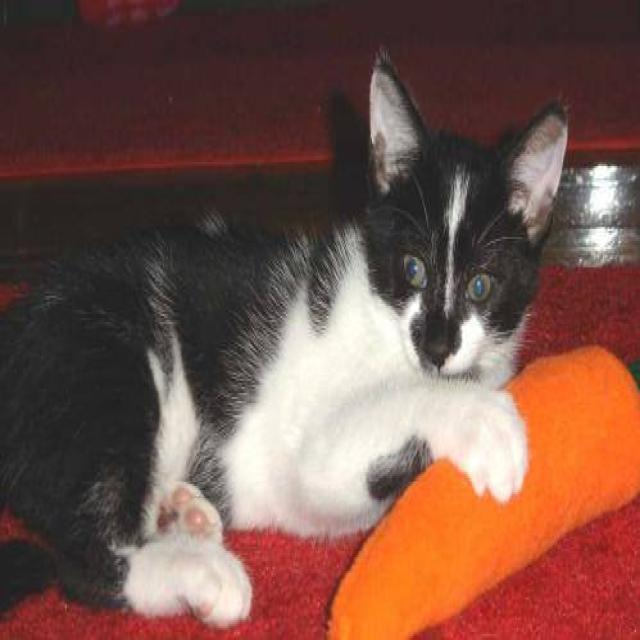cat: (0, 44, 569, 629)
